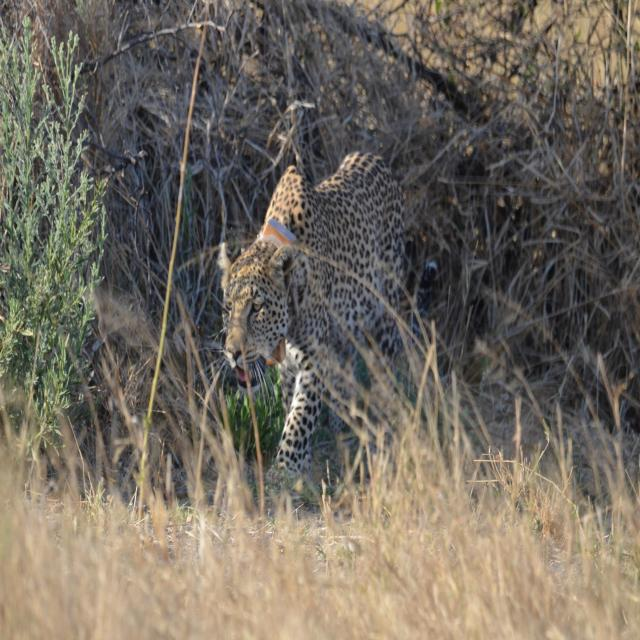Leopard: (217, 154, 440, 492)
